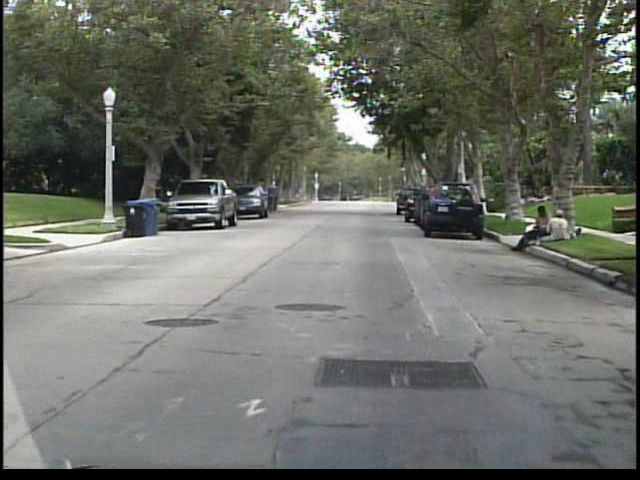person: (514, 203, 557, 253), (544, 206, 571, 238)
